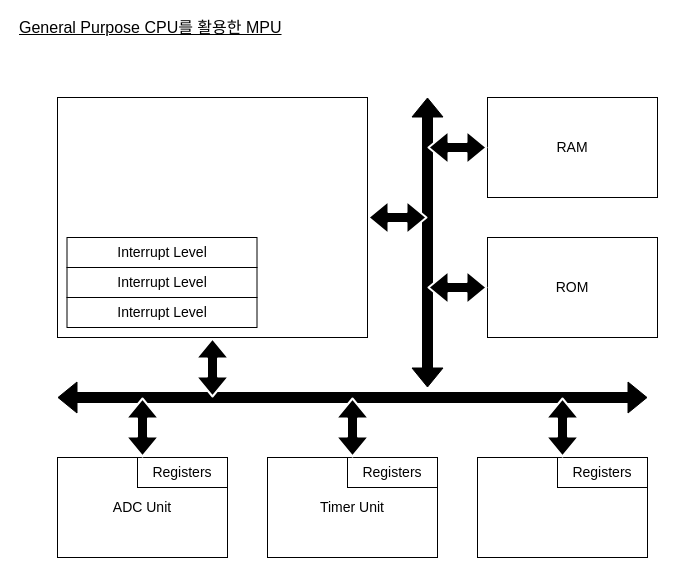
The diagram is 675 pixels wide and 575 high, and some of its shapes have lost their labels. The shapes that lost their labels are listed below. From the top down, each one's box as (x1, y1, x2, y2) in pixels, then its label:
(56, 96, 368, 338): General Purpose CPU
(476, 456, 648, 558): SCI Unit
